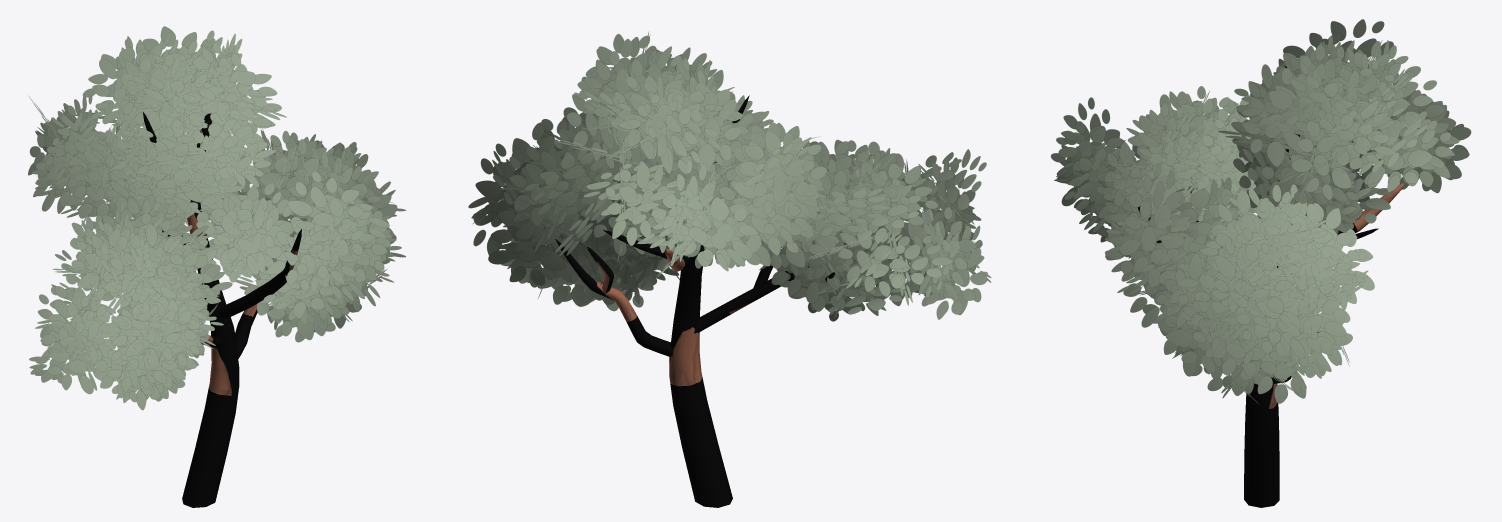
The model's file is garden_tree_sage.glb.
3 renders of one model, left to right at view 1: azimuth 30°, elevation 25°; view 2: azimuth 150°, elevation 25°; view 3: azimuth 270°, elevation 25°, orthographic. The views are drawn at different scales.
Visible parts, largest first — view 1: NormalTree_5; view 2: NormalTree_5; view 3: NormalTree_5.
Part boxes in pixels (bbox=[...]): NormalTree_5: bbox=[28, 26, 405, 507]; NormalTree_5: bbox=[468, 32, 991, 507]; NormalTree_5: bbox=[1050, 19, 1471, 507].
Bounding box in the file's own units: 2.5 × 2.41 × 2.07.
2 materials, 2 textured.
